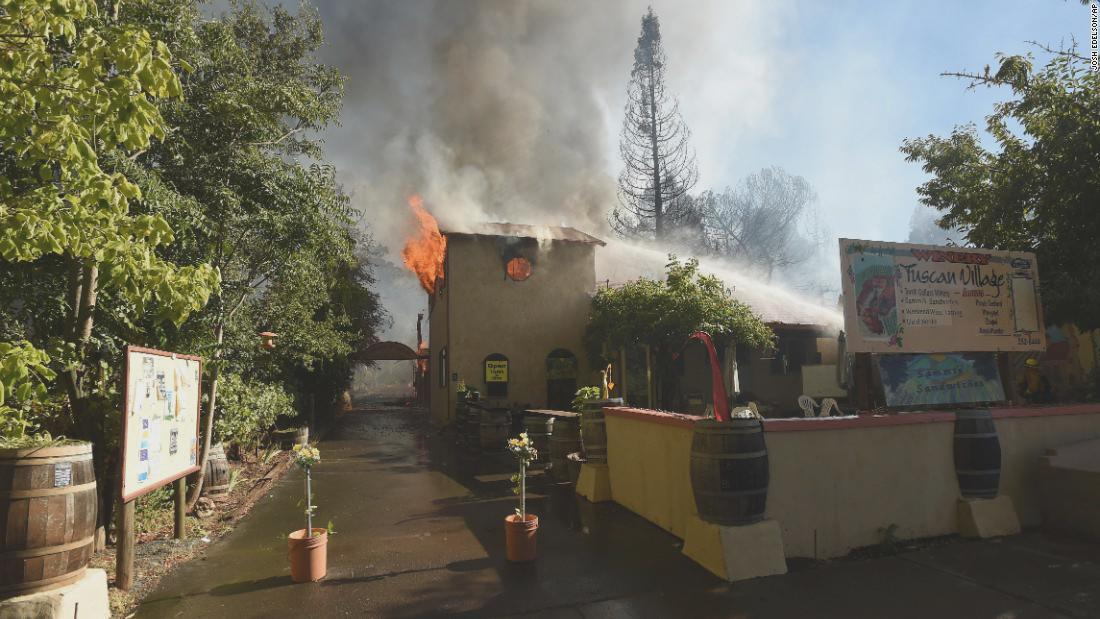fire: (405, 214, 443, 289)
smoke: (349, 11, 598, 205)
